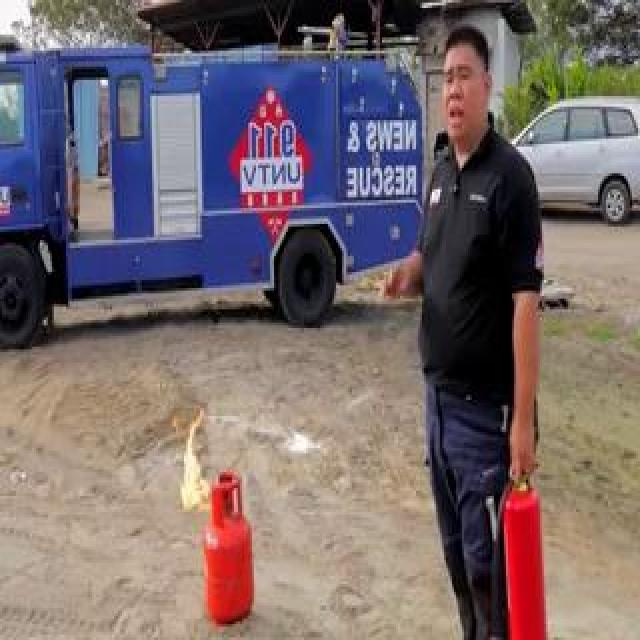Fire: (156, 408, 214, 509)
